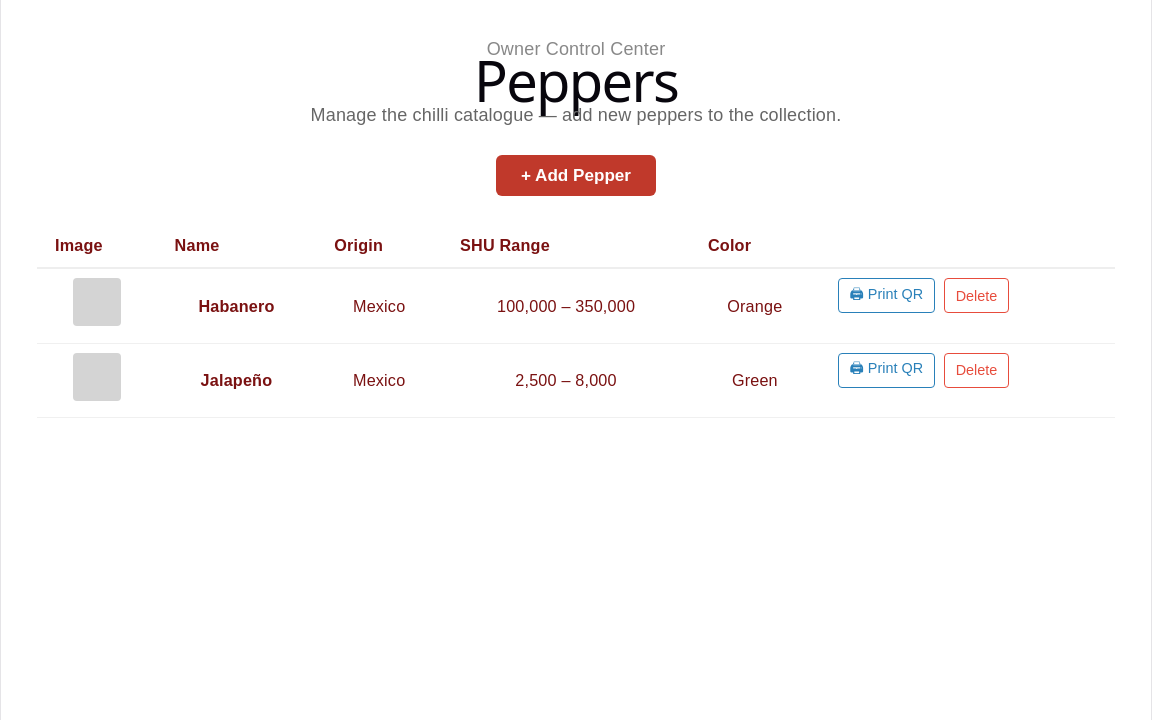
Test case: OwnerChillies › opens Add Pepper modal when button is clicked
Check: the text "Habanero" is shown, box [157,268,316,343]
Click the button "+ Add Pepper".
click(576, 176)  # box [496,155,656,196]
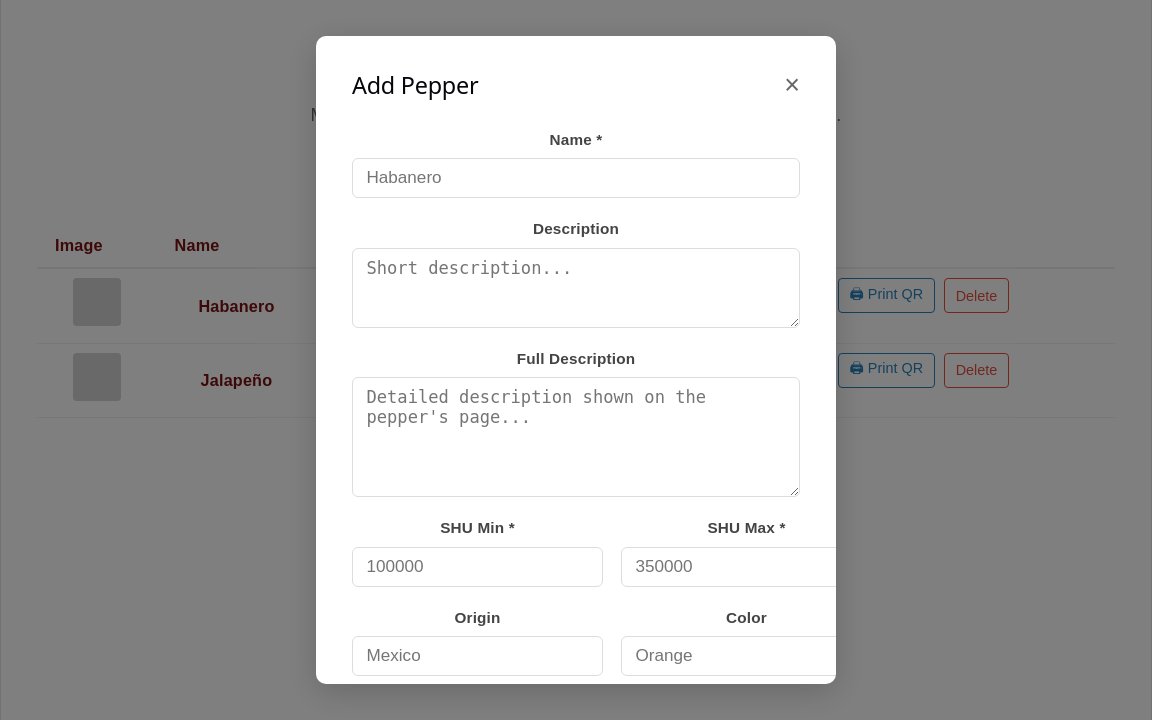
Check: the heading "Add Pepper" is shown, box [352,72,478,100]
